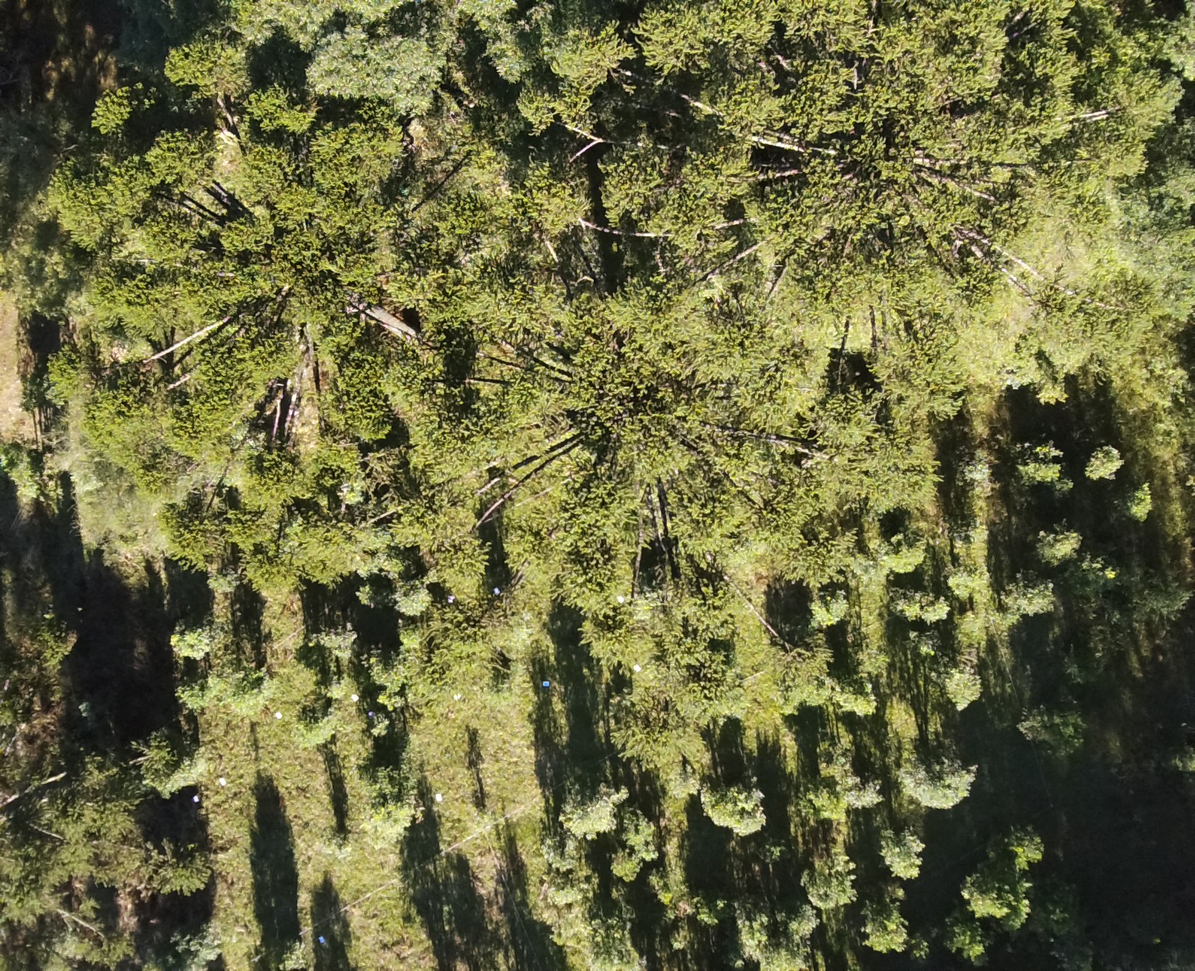erva: (909, 750, 981, 819), (287, 697, 356, 762), (704, 772, 768, 839), (360, 775, 428, 834), (210, 671, 280, 722), (317, 617, 372, 679), (796, 852, 863, 902), (162, 743, 216, 801), (570, 787, 629, 839), (170, 615, 224, 671), (1040, 516, 1085, 578), (385, 574, 442, 622), (586, 916, 635, 970), (930, 657, 981, 708), (884, 533, 933, 585), (875, 827, 919, 879), (1005, 835, 1049, 884), (311, 822, 366, 859), (960, 871, 1000, 919), (1114, 480, 1158, 523), (940, 560, 978, 608), (862, 916, 917, 949), (1010, 575, 1048, 621), (608, 852, 651, 892), (538, 835, 579, 875), (1022, 447, 1060, 487), (462, 801, 503, 838), (1090, 439, 1124, 483), (962, 456, 999, 496), (785, 896, 819, 934), (957, 919, 987, 960), (630, 822, 662, 860), (812, 592, 844, 627), (845, 772, 879, 804), (1002, 893, 1038, 923), (914, 600, 943, 626)
